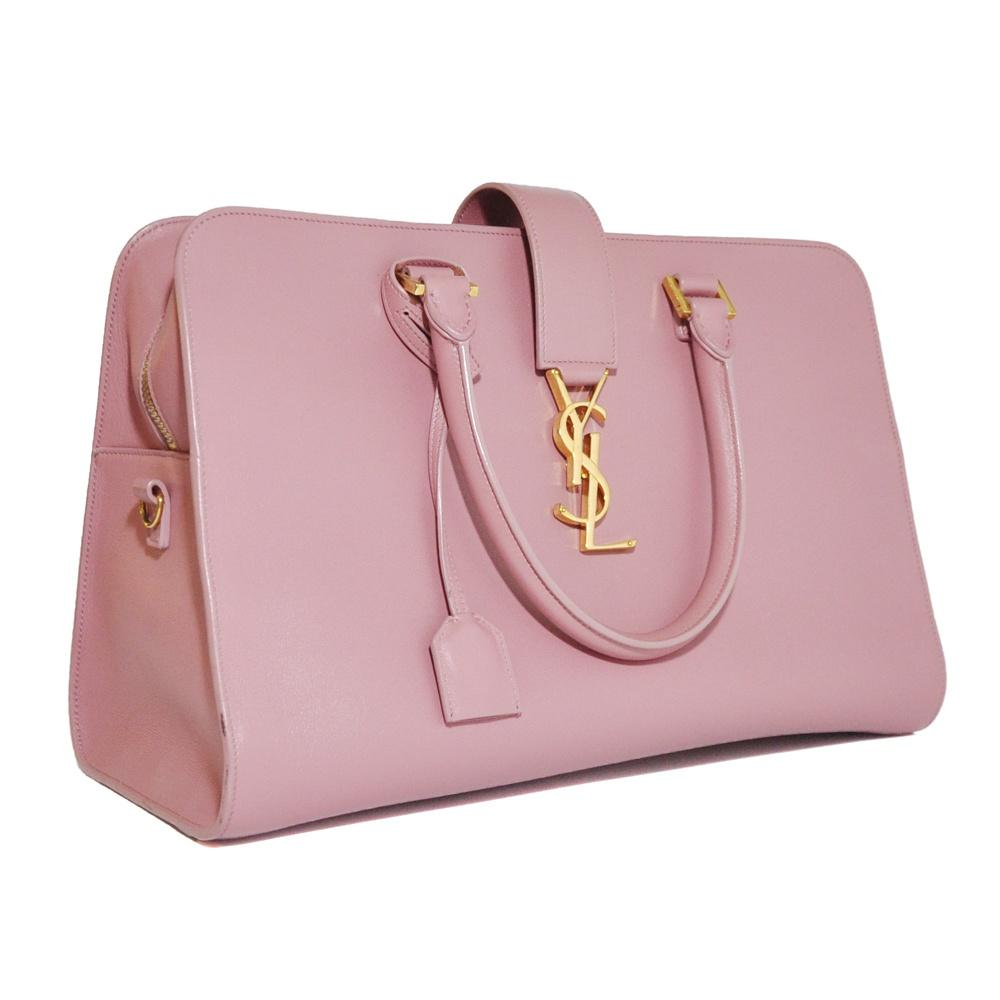YVES-SAINT-LAURENT: (545, 369, 638, 555)
